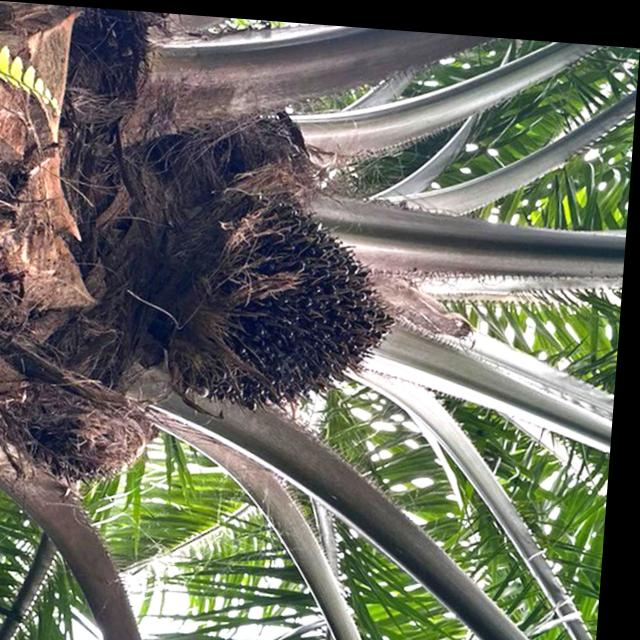unripe: (180, 179, 409, 416)
